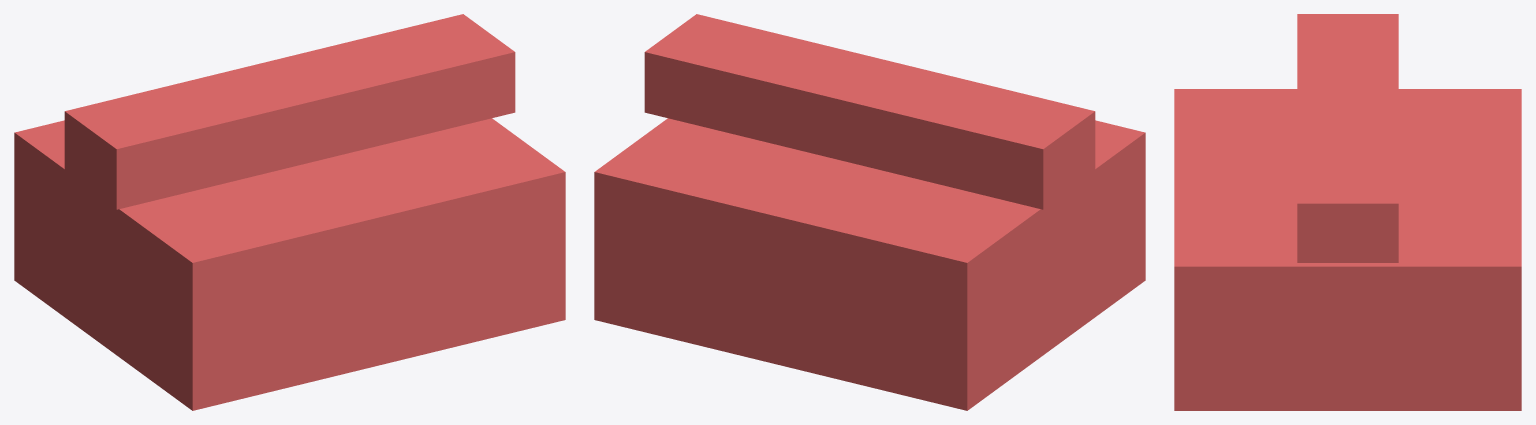
Rendered from telefono_rojo.glb.
3 views of the same model, side by side, from view 1: azimuth 30°, elevation 25°; view 2: azimuth 150°, elevation 25°; view 3: azimuth 270°, elevation 25° (orthographic). The views are drawn at different scales.
Visible parts, largest first — view 1: telefono_rojo; view 2: telefono_rojo; view 3: telefono_rojo.
Part boxes in pixels (bbox=[...]): telefono_rojo: bbox=[14, 14, 565, 410]; telefono_rojo: bbox=[594, 14, 1145, 410]; telefono_rojo: bbox=[1174, 14, 1521, 410].
Bounding box in the file's own units: 0.62 × 0.325 × 0.48.
